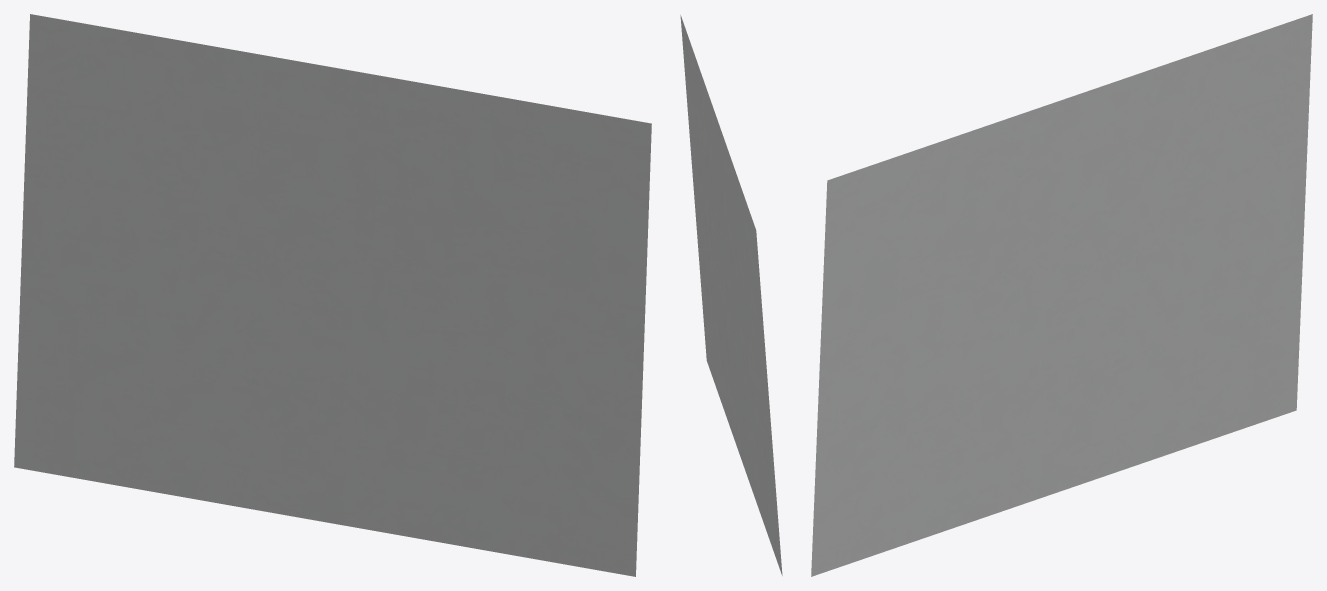
Rendered from infoRight.glb.
The picture shows the model from 3 angles, left to right: view 1: azimuth 30°, elevation 25°; view 2: azimuth 150°, elevation 25°; view 3: azimuth 270°, elevation 25°; orthographic projection. The views are drawn at different scales.
Parts seen in each view (by area): view 1: InfoRight; view 2: InfoRight; view 3: InfoRight.
Boxes of the visible parts, x1,y1,x2,y2 form: InfoRight: (14, 14, 651, 576); InfoRight: (680, 15, 782, 575); InfoRight: (811, 14, 1312, 576).
Size of the model in its own units: 1.18 by 1.31 by 1.44.
1 material, 1 textured.
